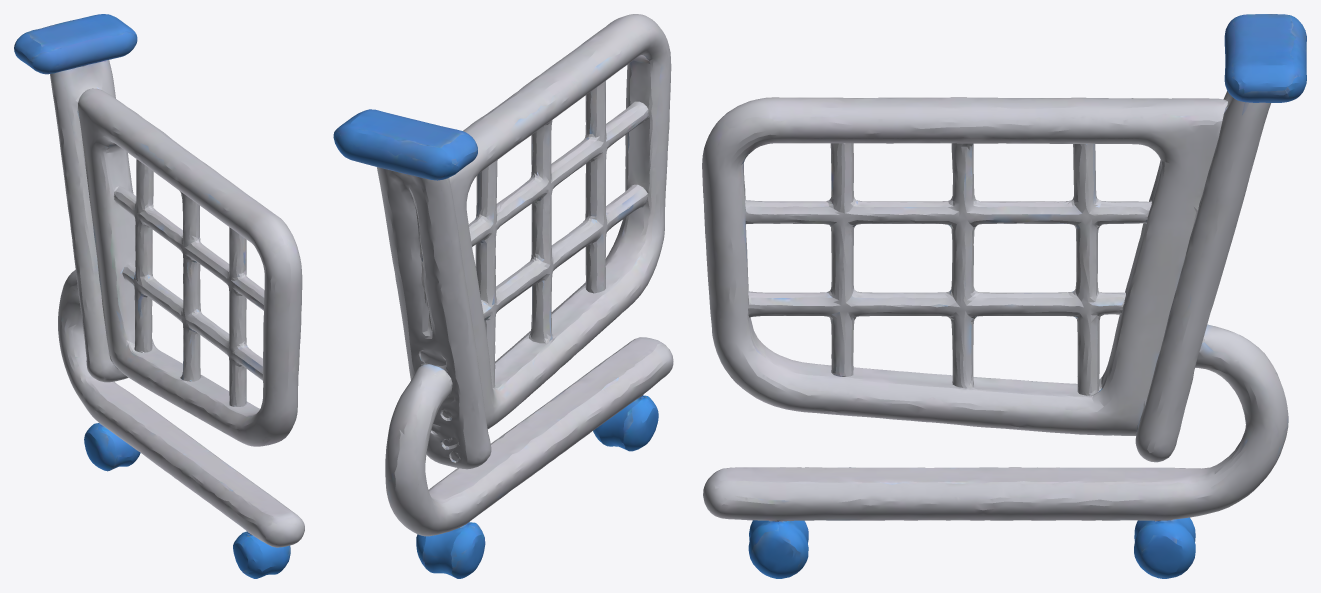
Rendered from shopping-cart.glb.
3 renders of one model, left to right at view 1: azimuth 30°, elevation 25°; view 2: azimuth 150°, elevation 25°; view 3: azimuth 270°, elevation 25°, orthographic. The views are drawn at different scales.
Parts seen in each view (by area): view 1: Mesh; view 2: Mesh; view 3: Mesh.
Part boxes in pixels (x1,y1,x2,y2): Mesh: [14, 14, 304, 578]; Mesh: [333, 14, 673, 578]; Mesh: [702, 14, 1306, 578].
Size of the model in its own units: 0.264 by 0.9722 by 1.
1 material, 1 textured.
